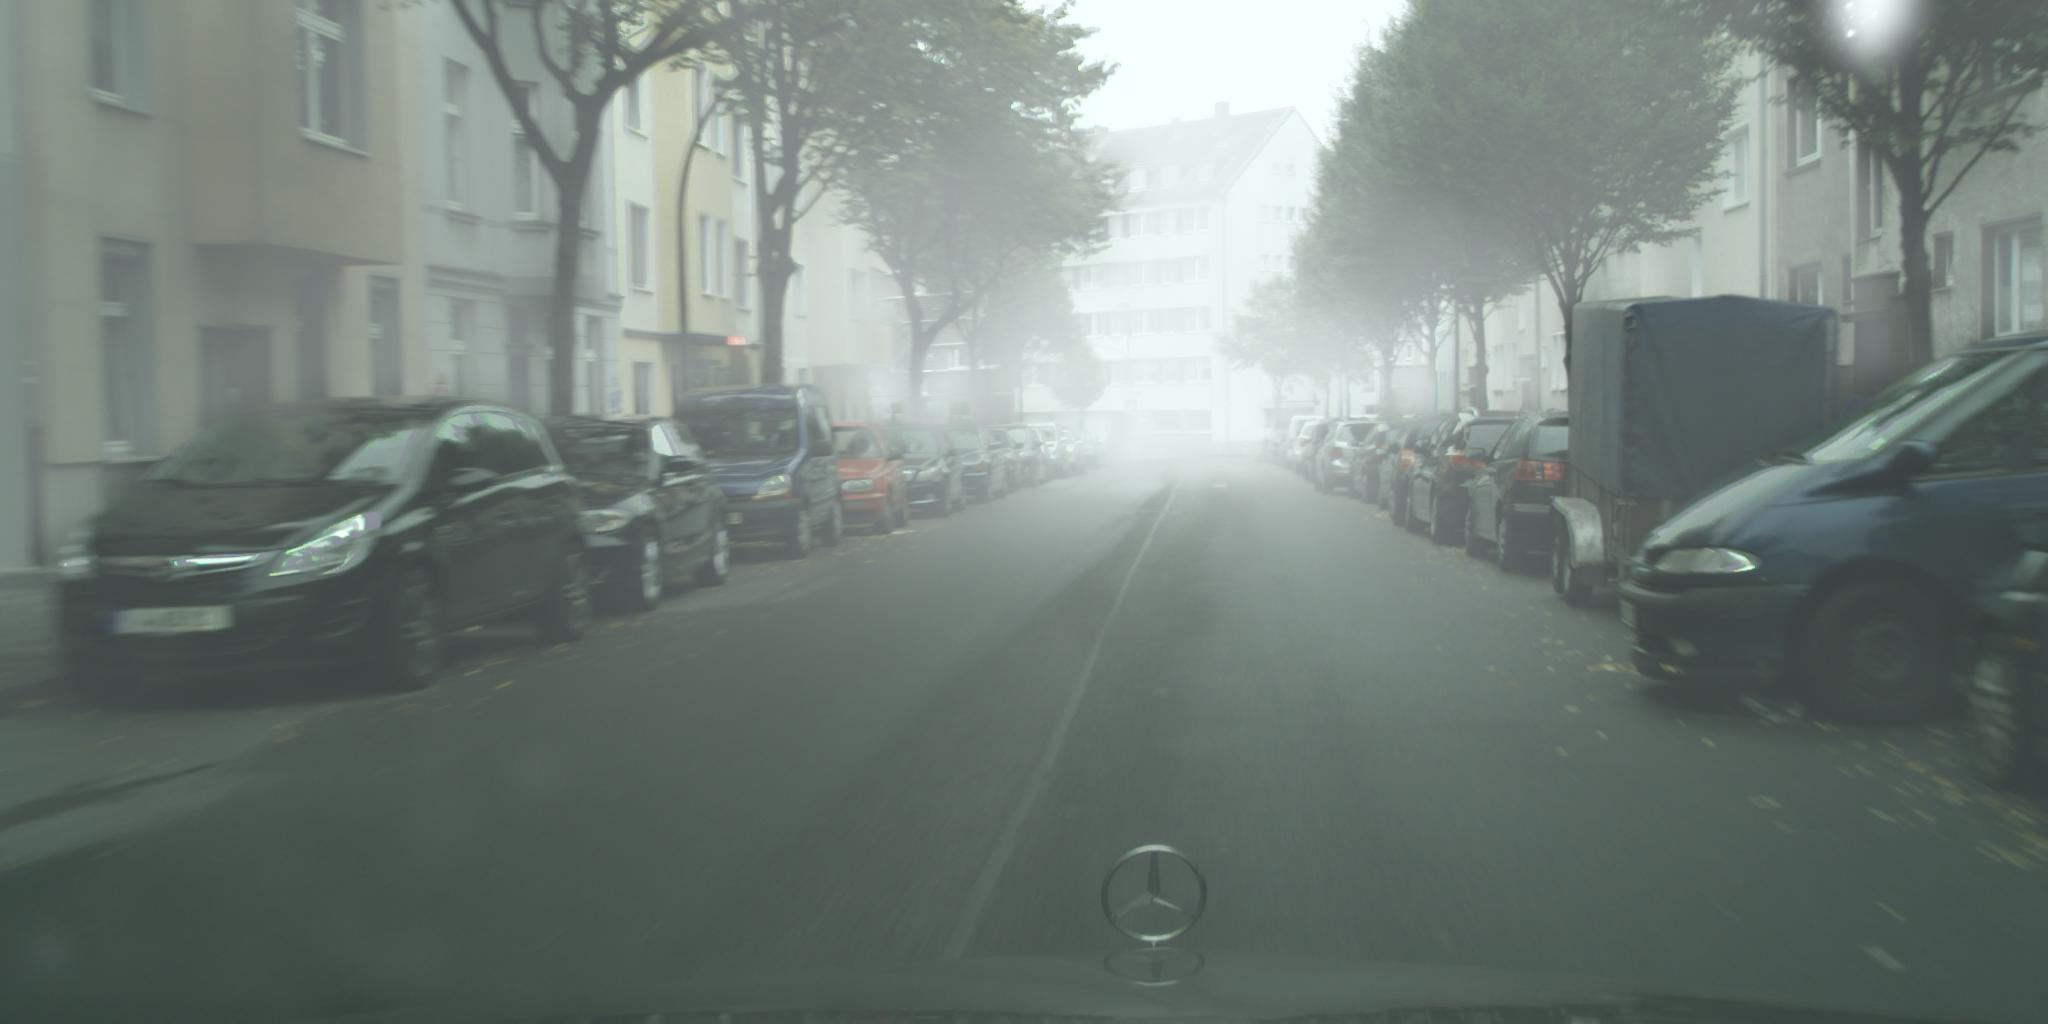car: (1620, 330, 2048, 731), (61, 394, 596, 711), (1463, 294, 1840, 610), (520, 415, 733, 614), (671, 383, 845, 560), (1962, 512, 2048, 799), (1404, 408, 1529, 546), (815, 421, 910, 536), (1377, 414, 1458, 529), (878, 424, 967, 519), (1263, 415, 1381, 485), (1313, 421, 1404, 498), (933, 424, 1011, 505), (1349, 418, 1417, 505)
